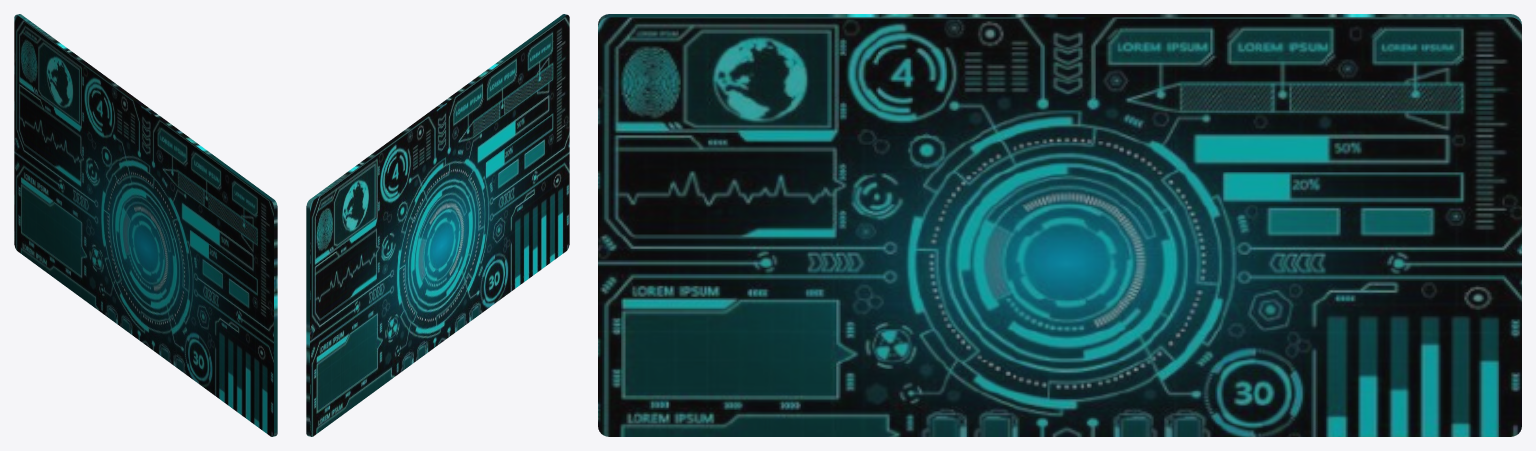
Rendered from holopanel2.fbx.
3 renders of one model, left to right at view 1: azimuth 30°, elevation 25°; view 2: azimuth 150°, elevation 25°; view 3: azimuth 270°, elevation 25°, orthographic. The views are drawn at different scales.
Visible parts, largest first — view 1: panel; view 2: panel; view 3: panel.
Part boxes in pixels (bbox=[...]): panel: bbox=[14, 14, 277, 436]; panel: bbox=[306, 14, 569, 436]; panel: bbox=[598, 14, 1521, 436].
Size of the model in its own units: 1.22 by 74.83 by 149.
